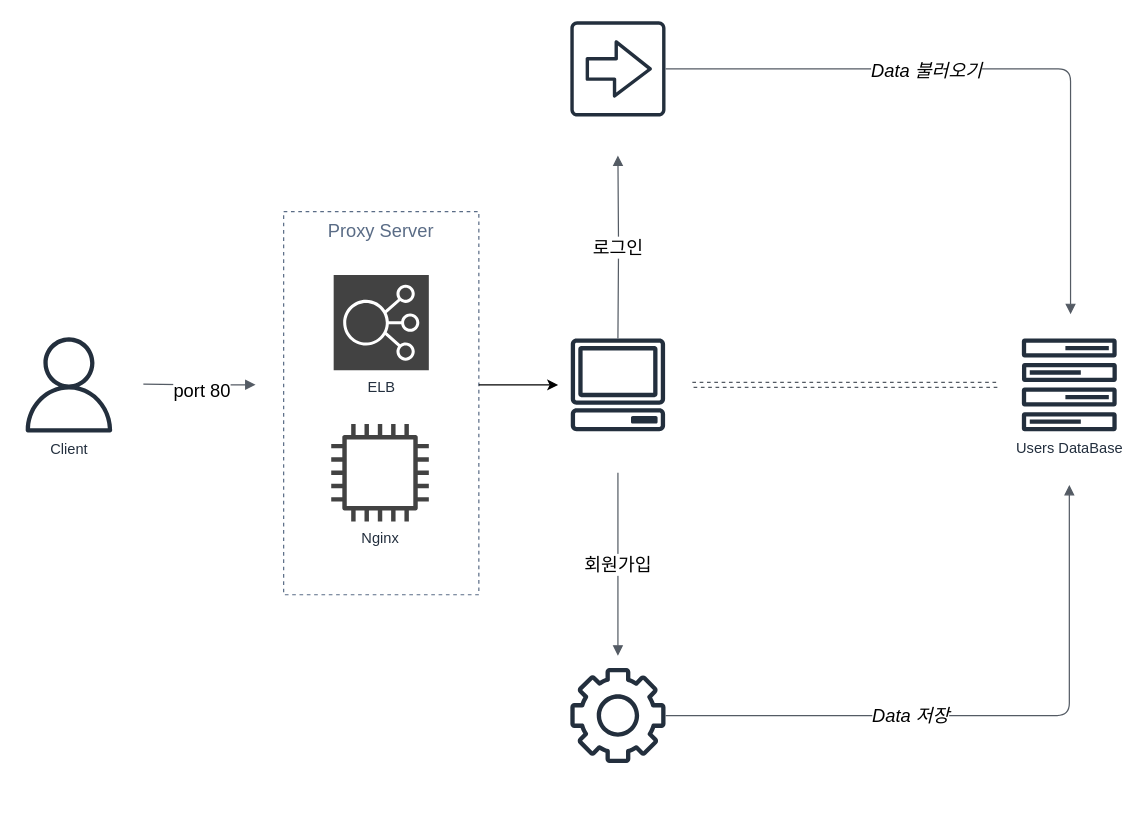
Some shapes in this 1143 by 814 pixel diagram are drawn without their labels. The centre of each missing label's shape, as x and y in pixels:
dawncho.com: point (617, 384)
dawncho.com /join: point (617, 714)
dawncho.com/ Login: point (617, 68)
